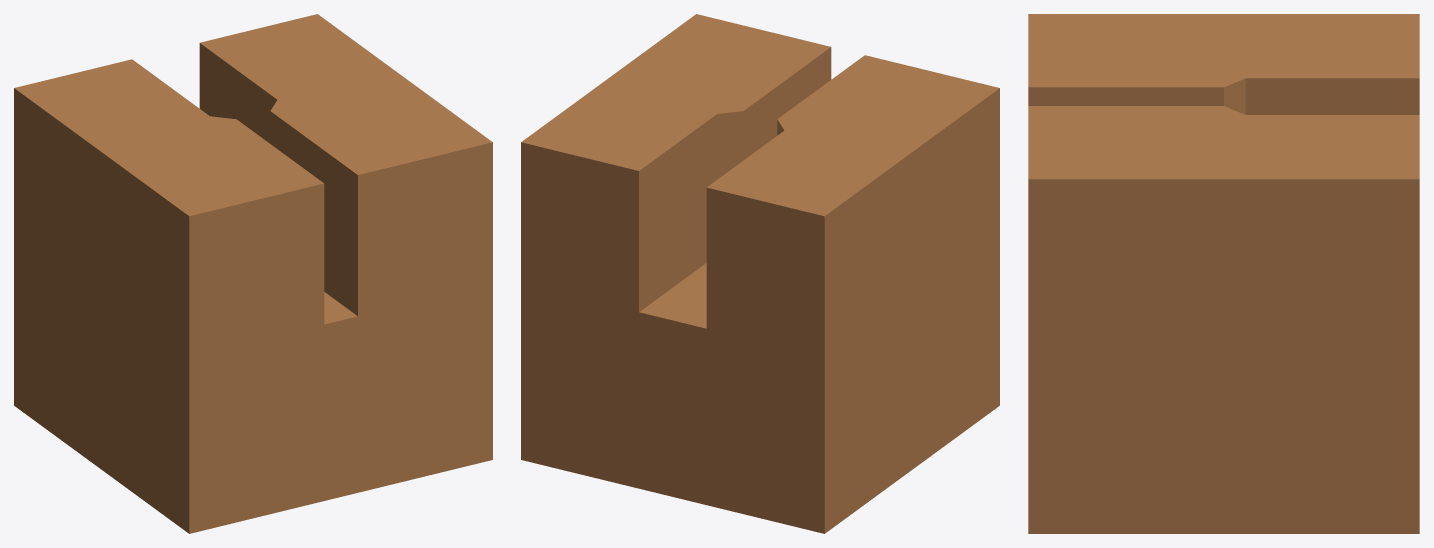
The model's file is Width_Transition_Model.fbx.
3 renders of one model, left to right at view 1: azimuth 30°, elevation 25°; view 2: azimuth 150°, elevation 25°; view 3: azimuth 270°, elevation 25°, orthographic. The views are drawn at different scales.
Parts seen in each view (by area): view 1: Cube; view 2: Cube; view 3: Cube.
Part boxes in pixels (left/top/right/bottom): Cube: left=14, top=14, right=492, bottom=533; Cube: left=521, top=14, right=999, bottom=533; Cube: left=1028, top=14, right=1419, bottom=533.
Size of the model in its own units: 100 by 100 by 100.
